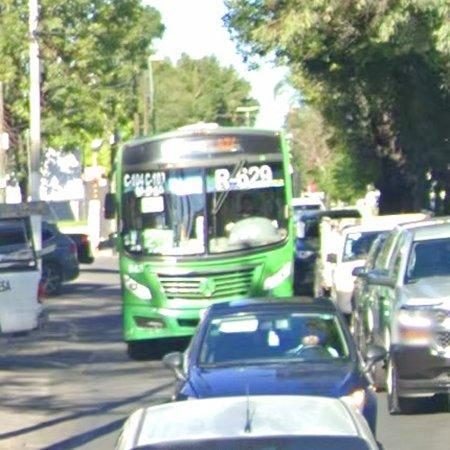buses: (113, 124, 295, 356)
